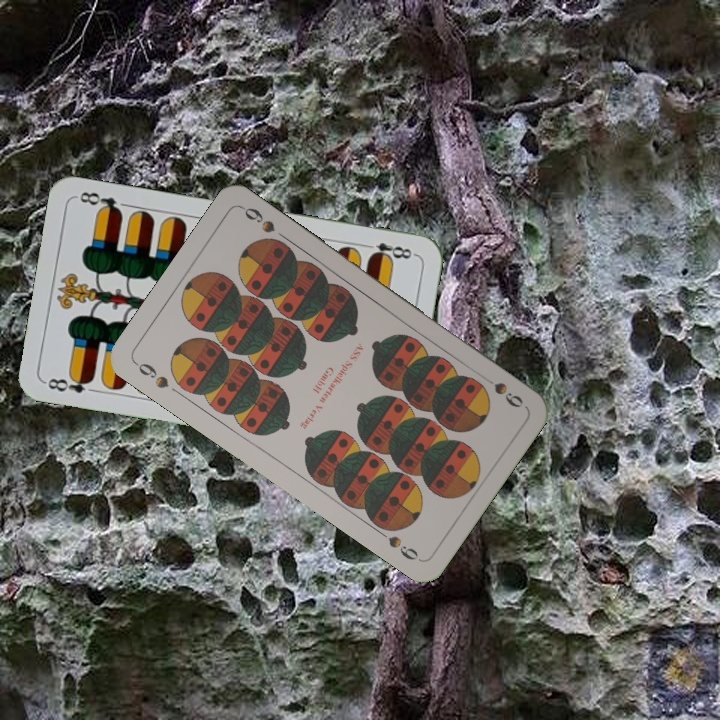E8: (359, 238, 418, 264), (42, 370, 97, 396)
S9: (479, 372, 526, 411), (131, 358, 172, 391)
